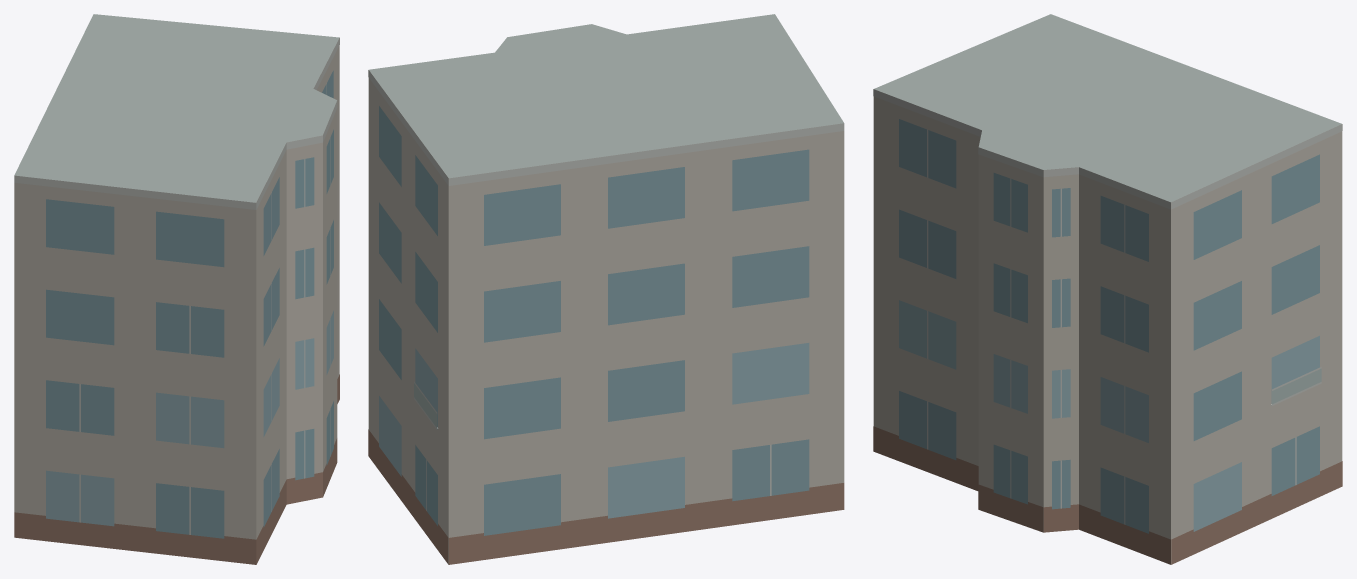
The model's file is survey-upis-32515421.glb.
3 views of the same model, side by side, from view 1: azimuth 30°, elevation 25°; view 2: azimuth 150°, elevation 25°; view 3: azimuth 270°, elevation 25° (orthographic). The views are drawn at different scales.
Visible parts, largest first — view 1: survey-upis-32515421.tmp; view 2: survey-upis-32515421.tmp; view 3: survey-upis-32515421.tmp.
Boxes of the visible parts, bbox=[...] form: survey-upis-32515421.tmp: bbox=[14, 14, 339, 564]; survey-upis-32515421.tmp: bbox=[368, 14, 844, 564]; survey-upis-32515421.tmp: bbox=[873, 14, 1342, 564].
Bounding box in the file's own units: 13.72 × 12.3 × 14.43.
